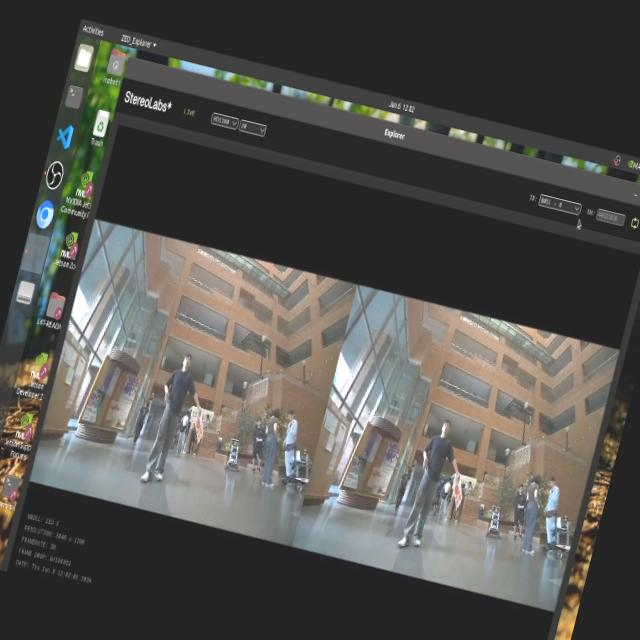red: (450, 480, 470, 512), (192, 413, 208, 437)
